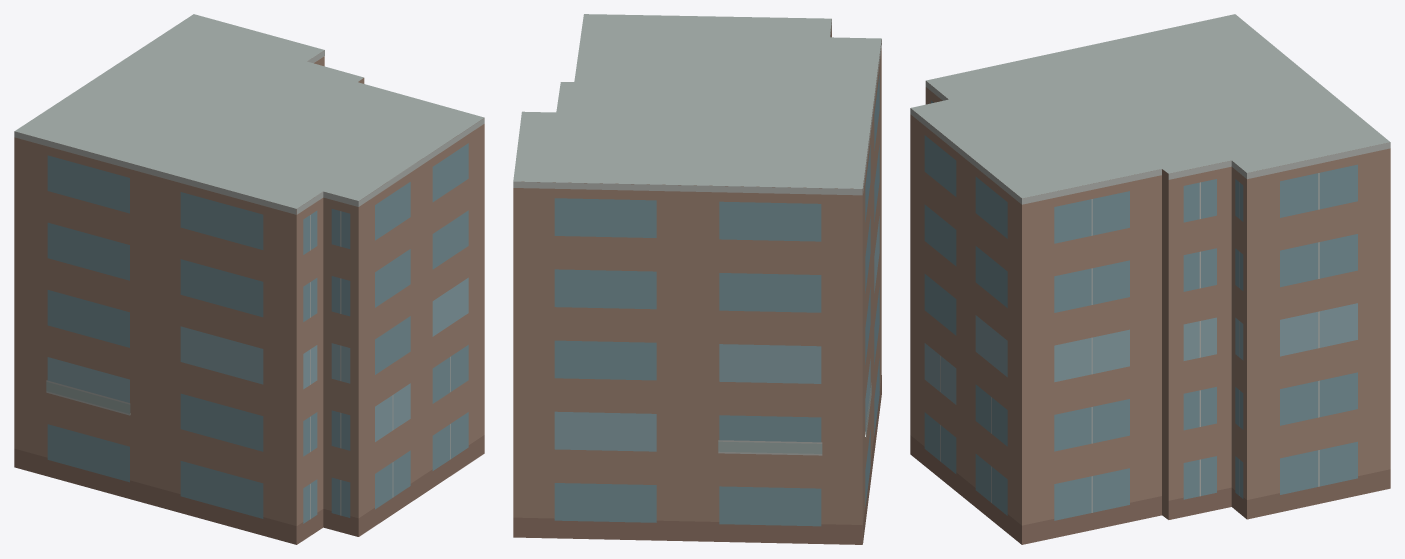
The model's file is survey-upis-32860628.glb.
The picture shows the model from 3 angles, left to right: view 1: azimuth 30°, elevation 25°; view 2: azimuth 150°, elevation 25°; view 3: azimuth 270°, elevation 25°; orthographic projection. The views are drawn at different scales.
Visible parts, largest first — view 1: survey-upis-32860628.tmp; view 2: survey-upis-32860628.tmp; view 3: survey-upis-32860628.tmp.
Part boxes in pixels (x1,y1,x2,y2): survey-upis-32860628.tmp: [14, 14, 484, 544]; survey-upis-32860628.tmp: [513, 14, 881, 544]; survey-upis-32860628.tmp: [910, 14, 1390, 544].
Size of the model in its own units: 15.54 by 13.6 by 17.09.
